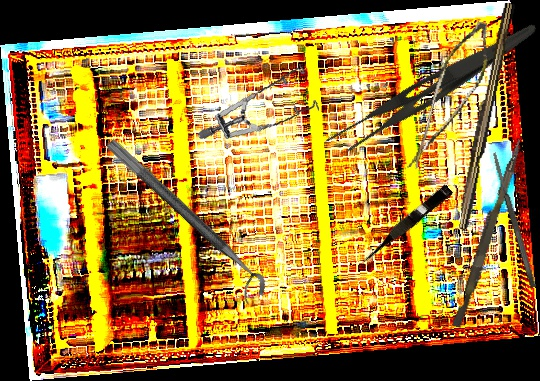Dressing Forceps: (321, 0, 540, 170)
Fixation Ring: (93, 137, 273, 308)
Micro Scissor: (407, 13, 497, 181), (356, 182, 454, 267)
Pusher: (452, 136, 523, 330)
Scalpel Handle: (453, 0, 516, 232)
Spatula Surgical: (490, 151, 538, 289)
Speculum: (197, 48, 326, 158)
